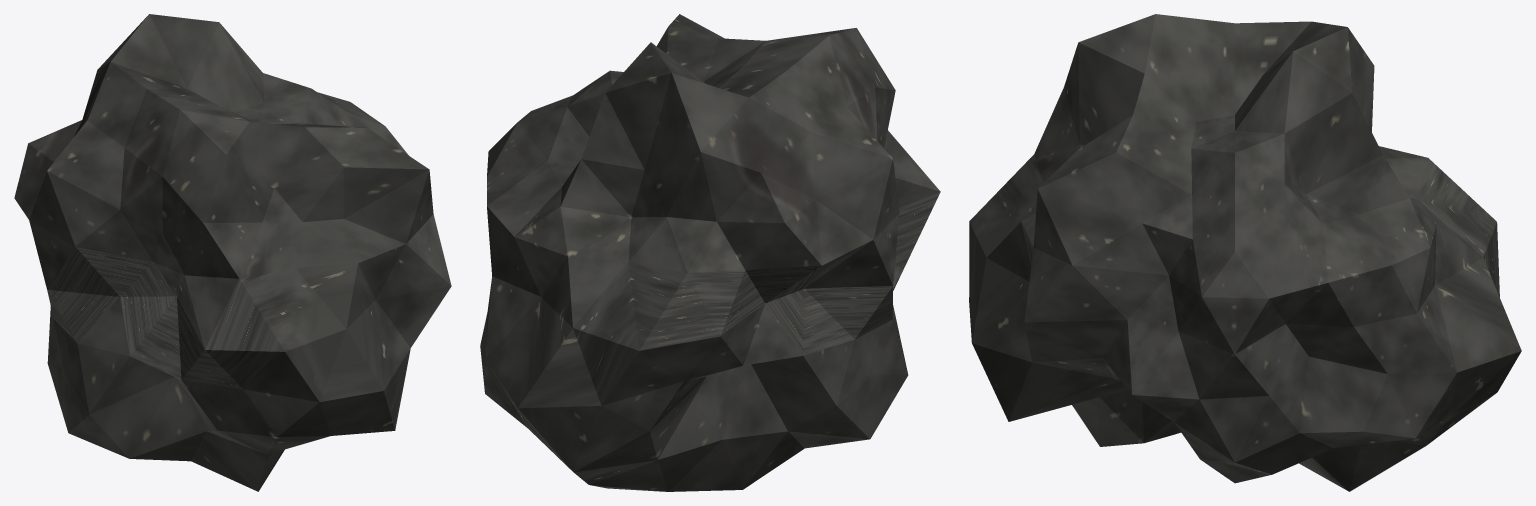
File: planet_01_b.glb
3 renders of one model, left to right at view 1: azimuth 30°, elevation 25°; view 2: azimuth 150°, elevation 25°; view 3: azimuth 270°, elevation 25°, orthographic. The views are drawn at different scales.
Visible parts, largest first — view 1: Body; view 2: Body; view 3: Body.
Boxes of the visible parts, bbox=[...] form: Body: bbox=[14, 14, 451, 491]; Body: bbox=[480, 14, 940, 491]; Body: bbox=[969, 14, 1521, 491].
Bounding box in the file's own units: 1.51 × 1.57 × 1.82.
1 material, 1 textured.
